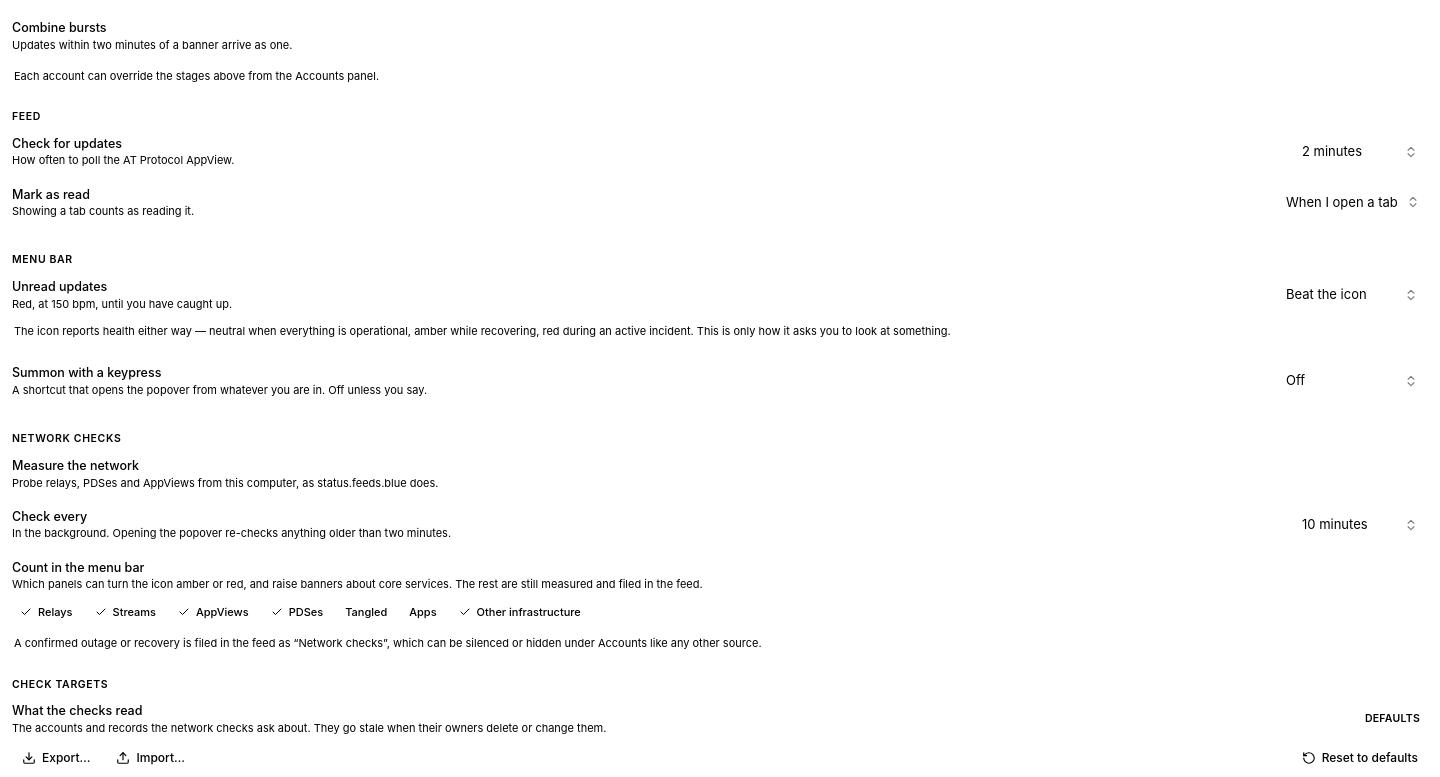
Scenario: the summoning shortcut › writes them the way Windows writes them instead
(page scrolled)
Press the mouse on the button with aria-label "Keyboard shortcut to open Statusky" at (1352, 381), box left=1276, top=365, right=1428, bottom=397
(page scrolled)
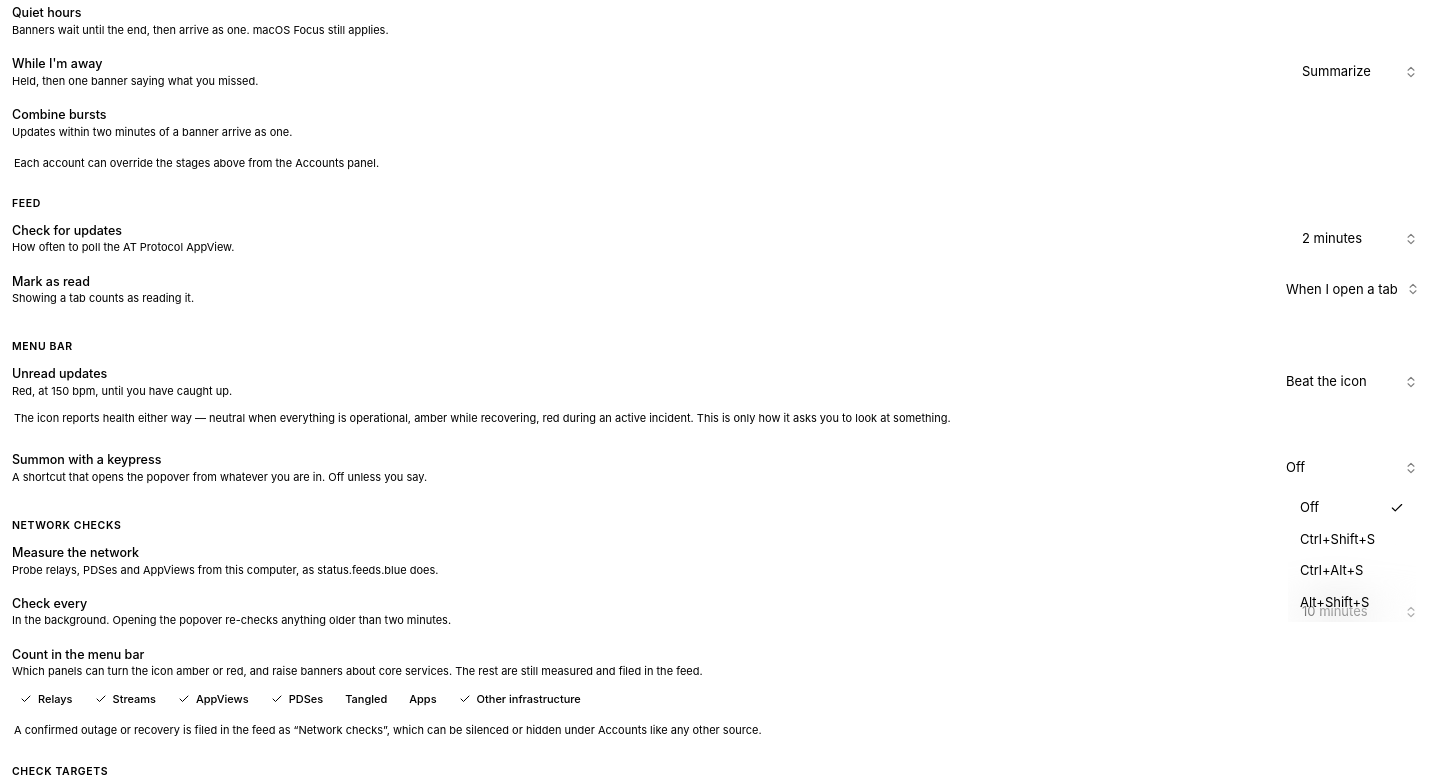
Now the list shows "Ctrl+Shift+S", box left=1300, top=530, right=1375, bottom=546
